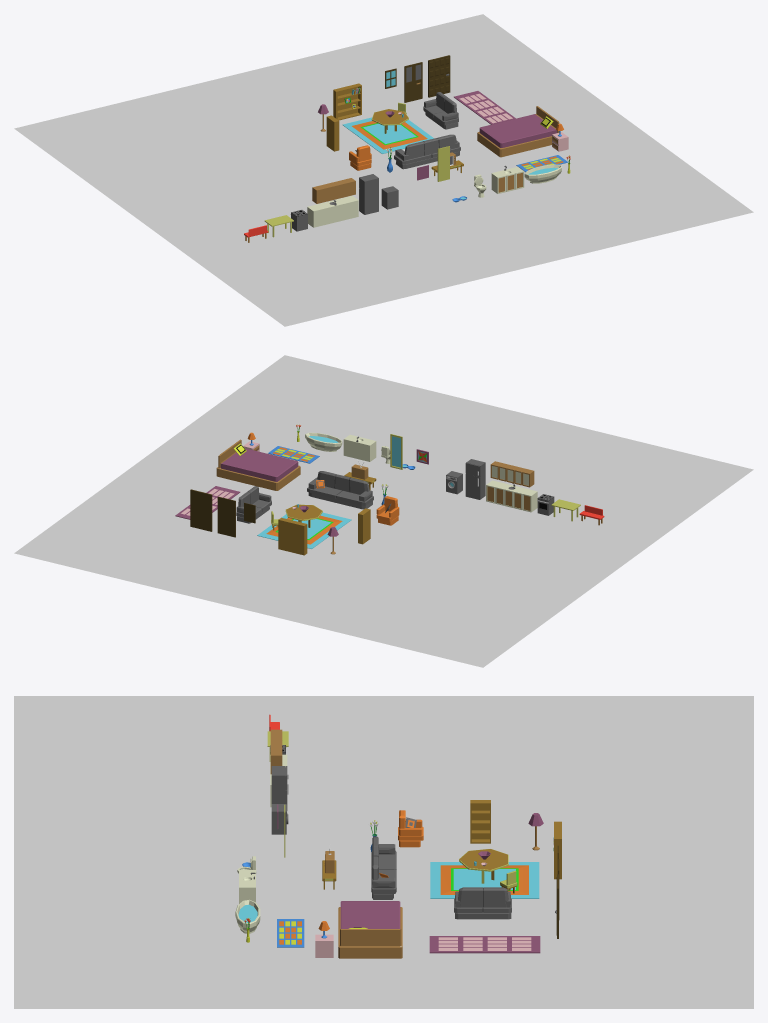
The model's file is furnitures.gltf.
3 views of the same model, one above another, from view 1: azimuth 30°, elevation 25°; view 2: azimuth 150°, elevation 25°; view 3: azimuth 270°, elevation 25° (orthographic). The views are drawn at different scales.
Visible parts, largest first — view 1: Plane_1, Bed_5, Carpet_19, Couch02_23, Tap_44, Rug02_40, Couch01_22, Bookshelf01_15, SteelDoor_42, Cupboard_24, Fridge_30, WCSink_51 (+2 smaller); view 2: Plane_1, Bed_5, Couch02_23, Tap_44, Carpet_19, Bookshelf01_15, SteelDoor_42, Cupboard_24, Fridge_30, WCSink_51, Couch01_22, Door_26 (+1 smaller); view 3: Plane_1, Bed_5, Carpet_19, Rug02_40, Couch01_22, Couch02_23, Bookshelf02_16, Table_43, Rug01_39, Armchair_3, Bathtub_4, Fridge_30 (+1 smaller).
Boxes of the visible parts, x1,y1,x2,y2 form: Plane_1: (14, 14, 753, 326); Bed_5: (477, 106, 559, 157); Carpet_19: (342, 117, 433, 153); Couch02_23: (394, 134, 460, 169); Tap_44: (307, 196, 358, 227); Rug02_40: (454, 91, 515, 124); Couch01_22: (423, 92, 458, 129); Bookshelf01_15: (333, 83, 361, 120); SteelDoor_42: (428, 55, 450, 97); Cupboard_24: (312, 178, 355, 203); Fridge_30: (359, 174, 378, 214); WCSink_51: (491, 165, 524, 193); Plane_1: (14, 355, 753, 667); Bed_5: (216, 439, 300, 490); Couch02_23: (307, 471, 373, 509); Tap_44: (486, 480, 537, 512); Carpet_19: (257, 512, 351, 548); Bookshelf01_15: (278, 517, 307, 555); SteelDoor_42: (190, 489, 212, 531); Cupboard_24: (490, 461, 534, 487); Fridge_30: (465, 459, 485, 499); WCSink_51: (343, 434, 376, 461); Couch01_22: (236, 486, 271, 523); Door_26: (217, 496, 235, 537); Plane_1: (14, 696, 753, 1008); Bed_5: (338, 901, 402, 958); Carpet_19: (430, 862, 539, 898); Rug02_40: (429, 936, 540, 953); Couch01_22: (454, 887, 511, 919); Couch02_23: (371, 836, 396, 899); Bookshelf02_16: (470, 800, 490, 843); Table_43: (459, 849, 508, 883); Rug01_39: (277, 919, 304, 947); Armchair_3: (398, 810, 423, 847); Bathtub_4: (235, 899, 260, 933); Fridge_30: (271, 766, 288, 810).
Size of the model in its own units: 20 by 1.78 by 20.
